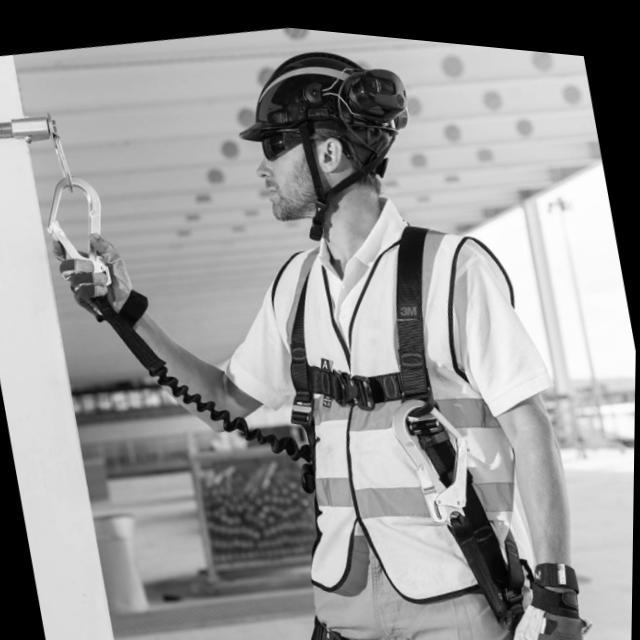belt: (234, 190, 558, 640)
